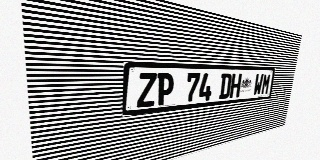4: (198, 73, 213, 101)
7: (184, 73, 200, 103)
D: (218, 73, 232, 99)
H: (229, 73, 242, 98)
M: (261, 74, 271, 95)
P: (156, 73, 174, 106)
W: (253, 74, 264, 96)
Z: (137, 73, 157, 108)
